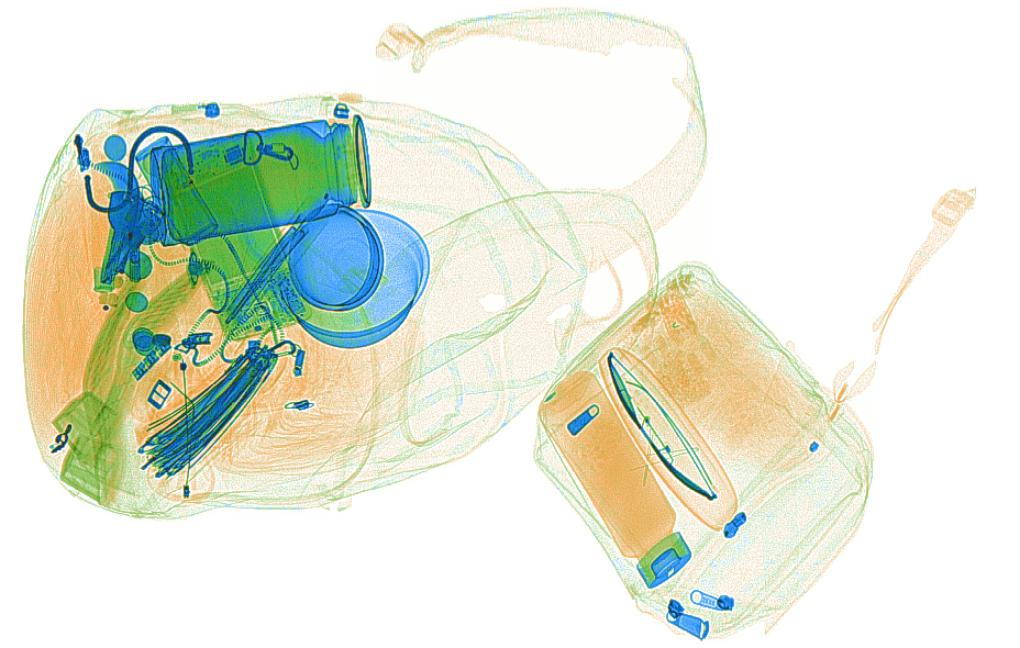knife: (92, 160, 141, 274)
